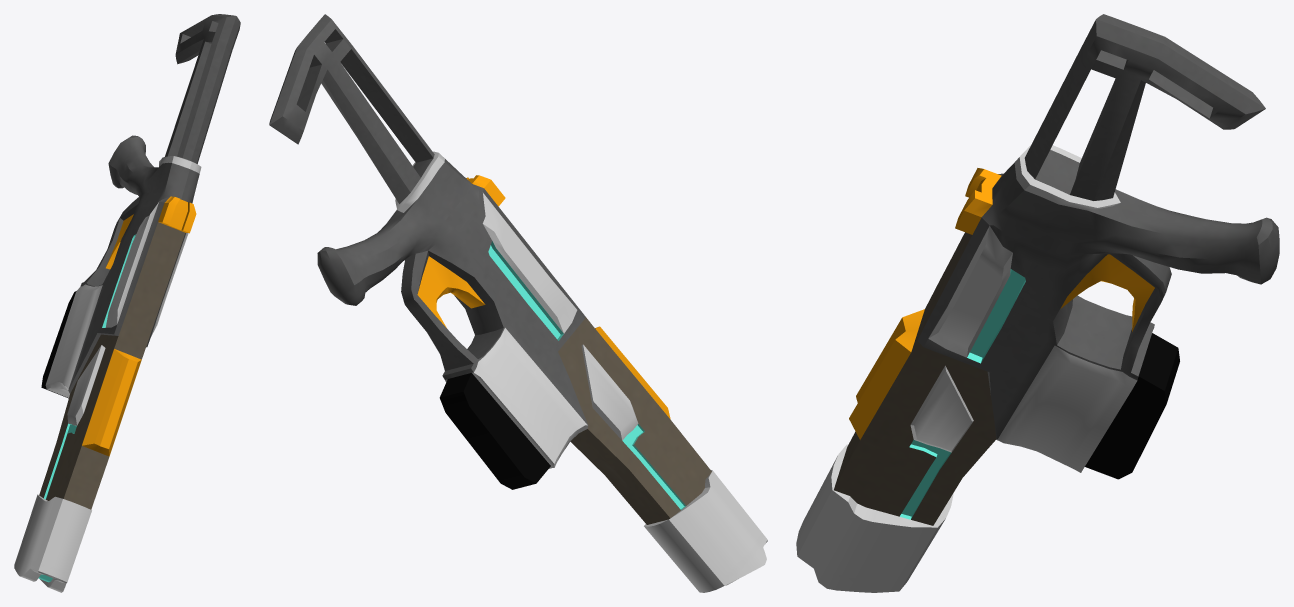
The model's file is gun.fbx.
3 views of the same model, side by side, from view 1: azimuth 30°, elevation 25°; view 2: azimuth 150°, elevation 25°; view 3: azimuth 270°, elevation 25° (orthographic). The views are drawn at different scales.
Visible parts, largest first — view 1: gun; view 2: gun; view 3: gun.
Part boxes in pixels (bbox=[...]): gun: bbox=[14, 14, 240, 592]; gun: bbox=[269, 14, 767, 592]; gun: bbox=[796, 14, 1279, 592].
Bounding box in the file's own units: 230 × 340 × 190.
